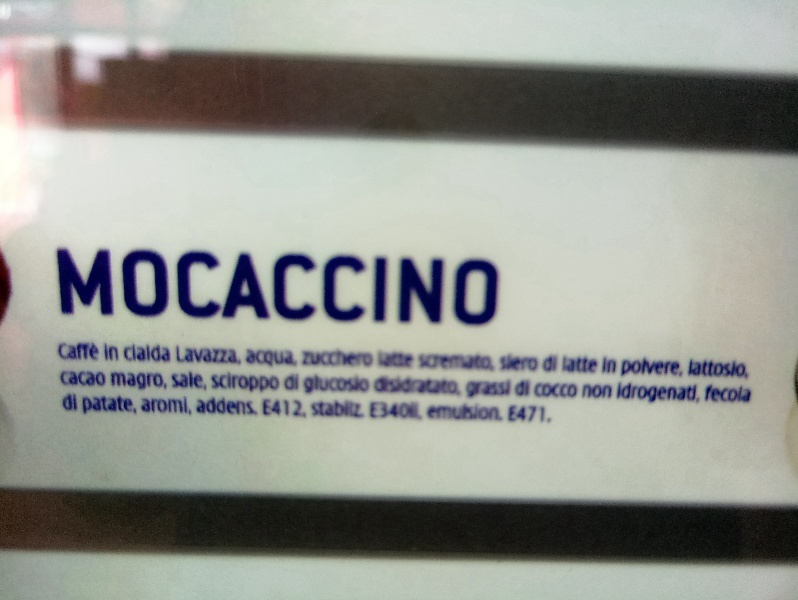text: (65, 244, 80, 327), (81, 244, 96, 327), (97, 244, 112, 327), (113, 244, 128, 327), (129, 244, 144, 327), (145, 244, 160, 327), (161, 244, 176, 327), (177, 244, 192, 327), (193, 244, 208, 327), (209, 244, 224, 327), (225, 244, 240, 327), (241, 244, 256, 327), (257, 244, 272, 327), (273, 244, 288, 327), (289, 244, 304, 327), (305, 244, 320, 327), (321, 244, 336, 327), (337, 244, 352, 327), (353, 244, 368, 327), (369, 244, 384, 327), (385, 244, 400, 327), (401, 244, 416, 327), (417, 244, 432, 327), (433, 244, 448, 327), (449, 244, 464, 327), (465, 244, 480, 327), (481, 244, 496, 327), (55, 244, 64, 327), (625, 381, 640, 405), (641, 381, 656, 405), (657, 381, 672, 405), (673, 381, 688, 405), (385, 375, 400, 398), (401, 375, 416, 398), (417, 375, 432, 398), (433, 375, 448, 398), (177, 369, 192, 392), (225, 371, 240, 394), (241, 371, 256, 394), (257, 371, 272, 394), (497, 244, 501, 327), (257, 348, 272, 370), (273, 348, 288, 370), (305, 373, 320, 395), (321, 373, 336, 395), (337, 373, 352, 395), (353, 373, 368, 395), (689, 357, 704, 379), (705, 357, 720, 379), (721, 357, 736, 379), (193, 369, 207, 392), (65, 341, 80, 362), (81, 341, 96, 362), (113, 371, 128, 392), (129, 371, 144, 392), (145, 371, 160, 392), (209, 395, 224, 416), (225, 395, 240, 416), (241, 395, 256, 416), (433, 400, 448, 421), (449, 400, 464, 421), (465, 400, 480, 421), (481, 400, 496, 421), (625, 356, 640, 377), (641, 356, 656, 377), (657, 356, 672, 377), (385, 351, 400, 371), (401, 351, 416, 371), (417, 351, 432, 371), (433, 351, 448, 371), (449, 351, 464, 371), (465, 351, 480, 371), (481, 351, 496, 371), (497, 351, 512, 371), (513, 351, 528, 371), (177, 346, 192, 366), (193, 346, 208, 366), (209, 346, 224, 366), (225, 346, 240, 366), (145, 396, 160, 416), (161, 396, 176, 416), (177, 396, 192, 416), (273, 398, 288, 418), (289, 398, 304, 418), (577, 354, 592, 374), (721, 383, 736, 403), (737, 383, 752, 403), (689, 381, 701, 405), (737, 357, 750, 379), (129, 343, 144, 362), (145, 343, 160, 362), (97, 395, 112, 414), (113, 395, 128, 414), (321, 399, 336, 418), (337, 399, 352, 418), (385, 401, 400, 420), (401, 401, 416, 420), (481, 378, 496, 397), (497, 378, 512, 397), (706, 383, 720, 403), (449, 375, 461, 398), (545, 354, 559, 373), (289, 348, 301, 370), (305, 350, 320, 367), (321, 350, 336, 367), (337, 350, 352, 367), (353, 350, 368, 367), (513, 405, 528, 422), (529, 405, 544, 422), (545, 382, 560, 399), (561, 382, 576, 399), (213, 371, 224, 394), (83, 395, 96, 414), (371, 401, 384, 420), (467, 378, 480, 397), (564, 354, 576, 374), (65, 392, 78, 410), (374, 375, 384, 398), (65, 371, 80, 386), (81, 371, 96, 386), (593, 384, 608, 399), (515, 379, 528, 396), (246, 348, 256, 370), (673, 356, 683, 377), (161, 343, 172, 362), (529, 351, 539, 371), (289, 373, 300, 391), (310, 399, 320, 418), (353, 399, 363, 418), (199, 395, 208, 416), (273, 371, 281, 394), (263, 398, 272, 418), (129, 395, 138, 414), (534, 382, 544, 399), (609, 355, 617, 375), (618, 381, 624, 405), (97, 371, 106, 386), (583, 384, 592, 399), (105, 343, 112, 361), (161, 371, 167, 392), (497, 400, 503, 421), (602, 355, 608, 375), (369, 350, 376, 367), (545, 405, 552, 422), (417, 401, 423, 420), (113, 343, 119, 361), (59, 341, 64, 362), (379, 351, 384, 371), (593, 354, 598, 374), (172, 369, 176, 392), (283, 373, 288, 391), (428, 400, 432, 421), (124, 343, 128, 362), (97, 341, 100, 362), (609, 384, 613, 399), (509, 405, 512, 422), (61, 371, 64, 386), (241, 346, 243, 366), (142, 396, 144, 416), (369, 373, 370, 395), (111, 371, 112, 392), (257, 395, 258, 416), (623, 356, 624, 377), (305, 398, 306, 418), (543, 354, 544, 373), (303, 350, 304, 367), (529, 379, 530, 396), (577, 382, 578, 399)
